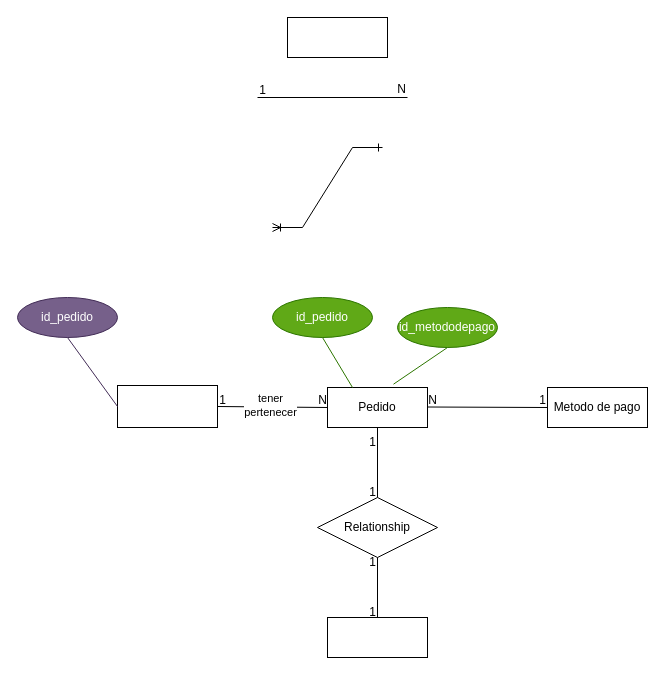
The diagram is 665 pixels wide and 675 high, and some of its shapes have lost their labels. Here are the shapes that lost their labels. From the top down, the centre of each, then its label:
At point 337,37: "Entity".
At point 167,406: "Cliente".
At point 377,637: "libro".
